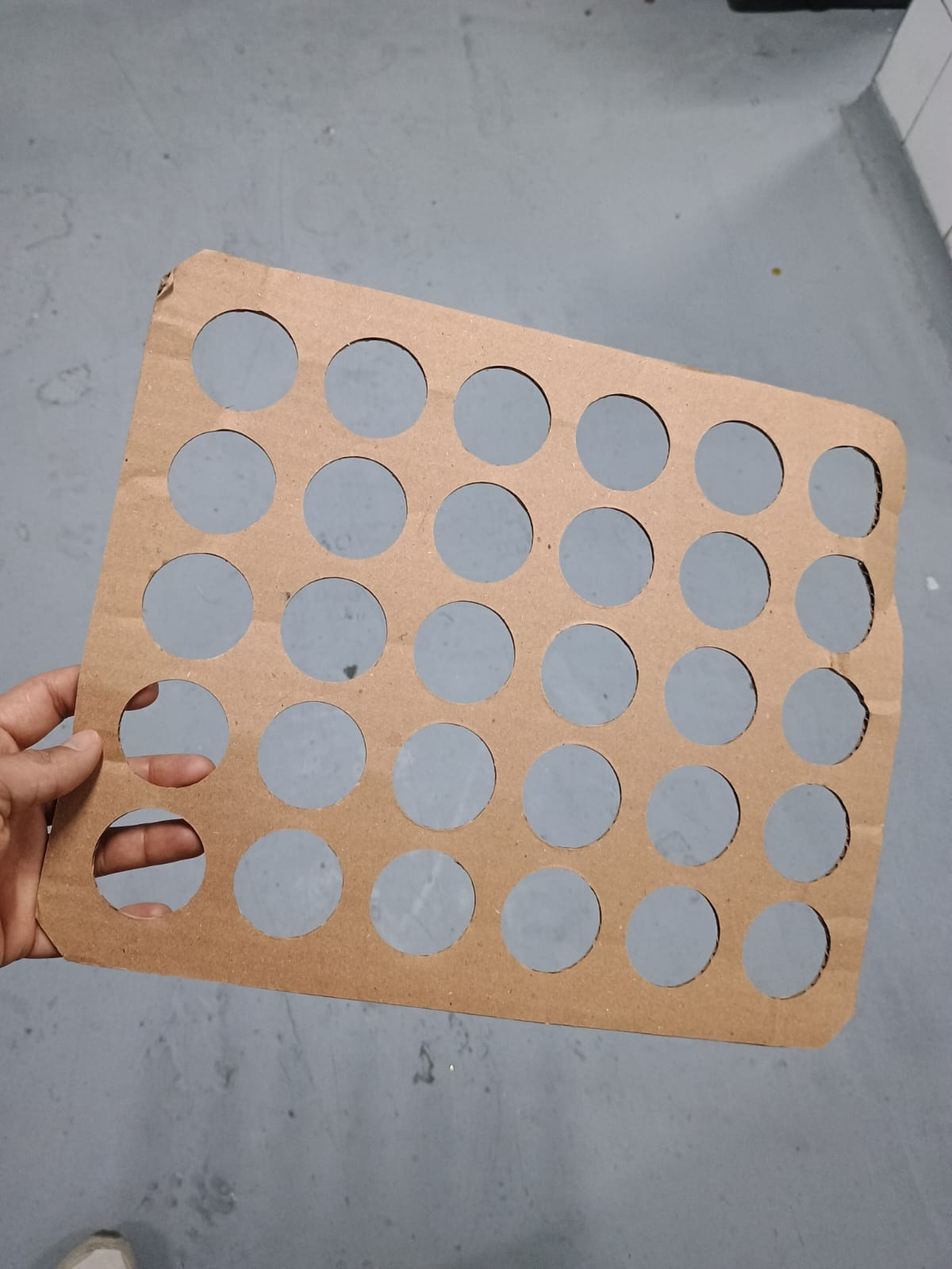Carton: (37, 248, 903, 1051)
